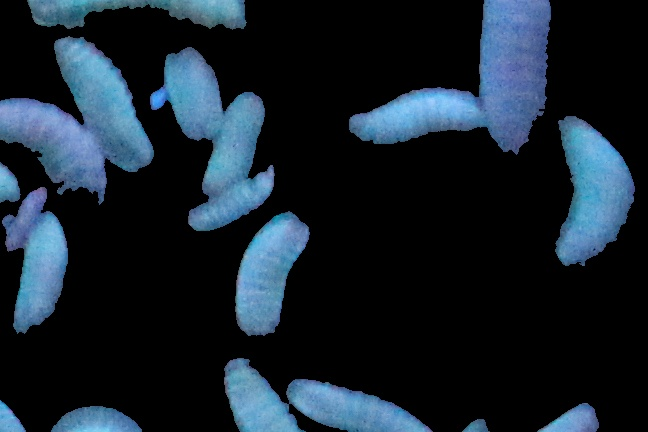larvae: (551, 102, 639, 294), (50, 33, 170, 170), (336, 72, 489, 174), (223, 197, 323, 351), (484, 1, 557, 171), (1, 97, 100, 201), (10, 208, 77, 344), (202, 85, 272, 210), (290, 377, 429, 432), (215, 354, 298, 430), (179, 165, 282, 222), (162, 49, 229, 135)
